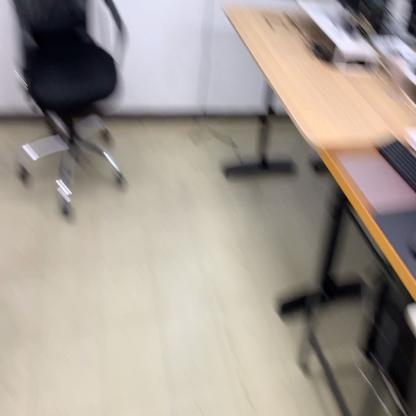chair: (9, 0, 131, 224)
